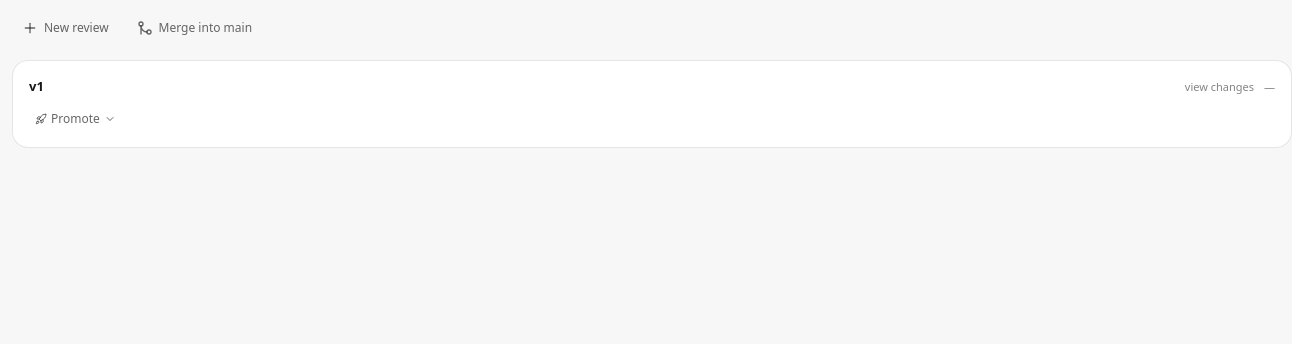
ActivityFeed promote menu › offers no environment to promote to while the list can't load, says so, and lists them once Retry loads them — production and uat main-only off main
Click the button "Promote" at (75, 118), box [29,106,122,130]
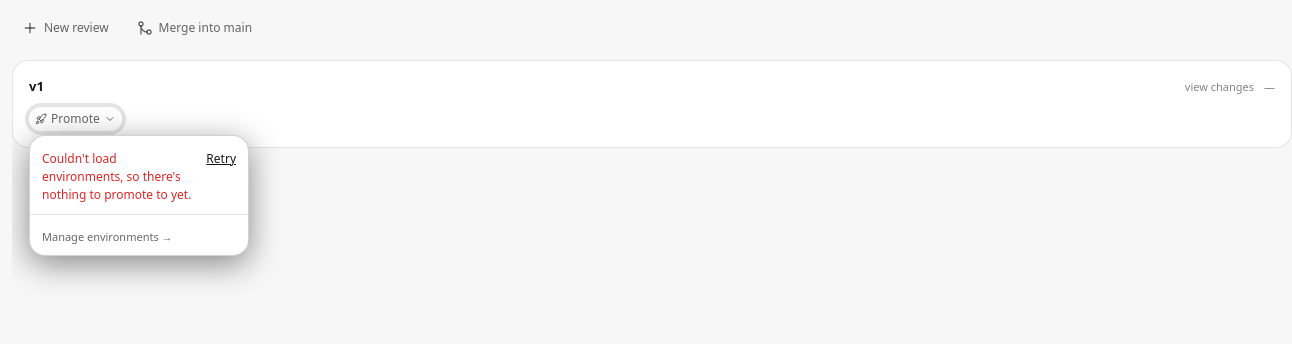
Result: the text "Couldn't load environments, so there's nothing to promote to yet." is shown at [42,150,198,204]
Press Tab
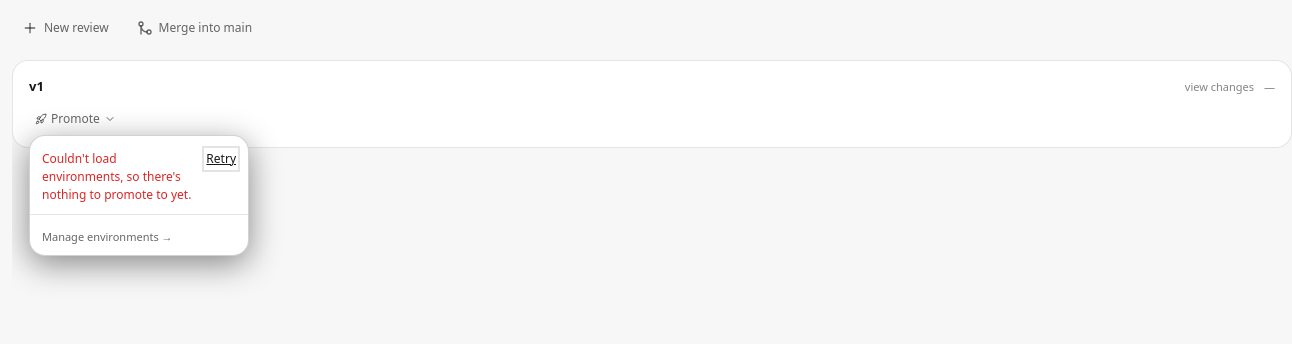
Press Enter
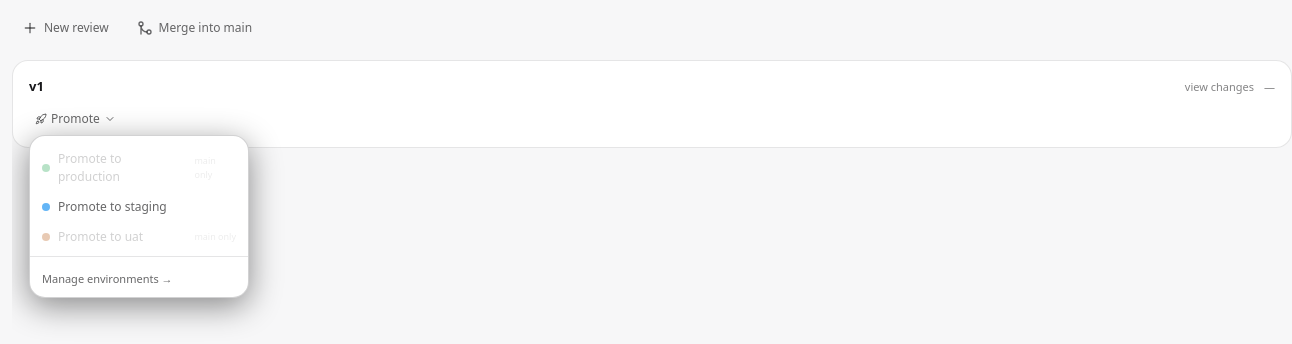
Result: the button "Promote to staging" is enabled at [30,192,248,222]
Result: the button "Promote to production main only" is disabled at [30,144,248,192]
Result: the button "Promote to uat main only" is disabled at [30,222,248,252]
